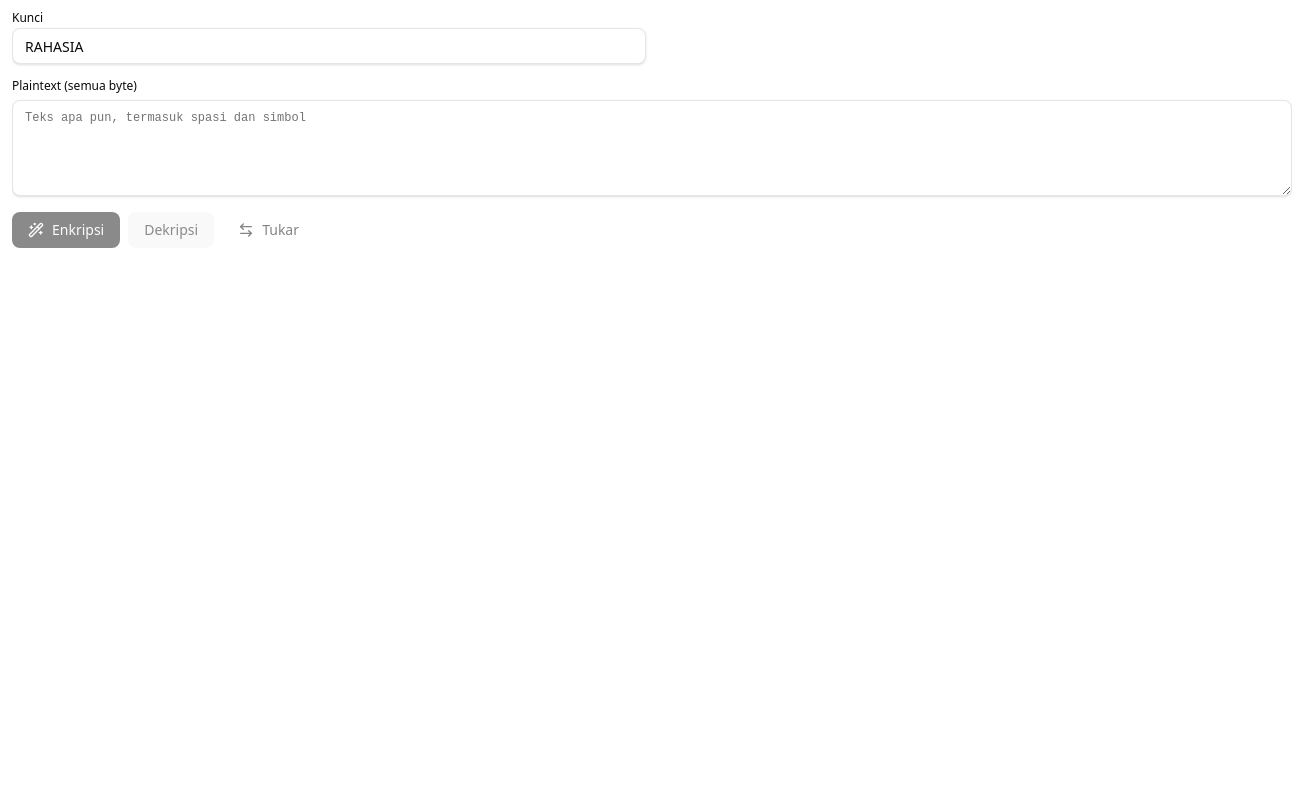
Test: TextPanel — enkripsi/dekripsi teks lewat GUI › Extended Vigenere menandai hasil sebagai base64 (Sp4)
The image size is (1304, 812).
In the text box labelled "Plaintext (semua byte)": x=652, y=148 left=12, top=100, right=1292, bottom=196, type "Halo"
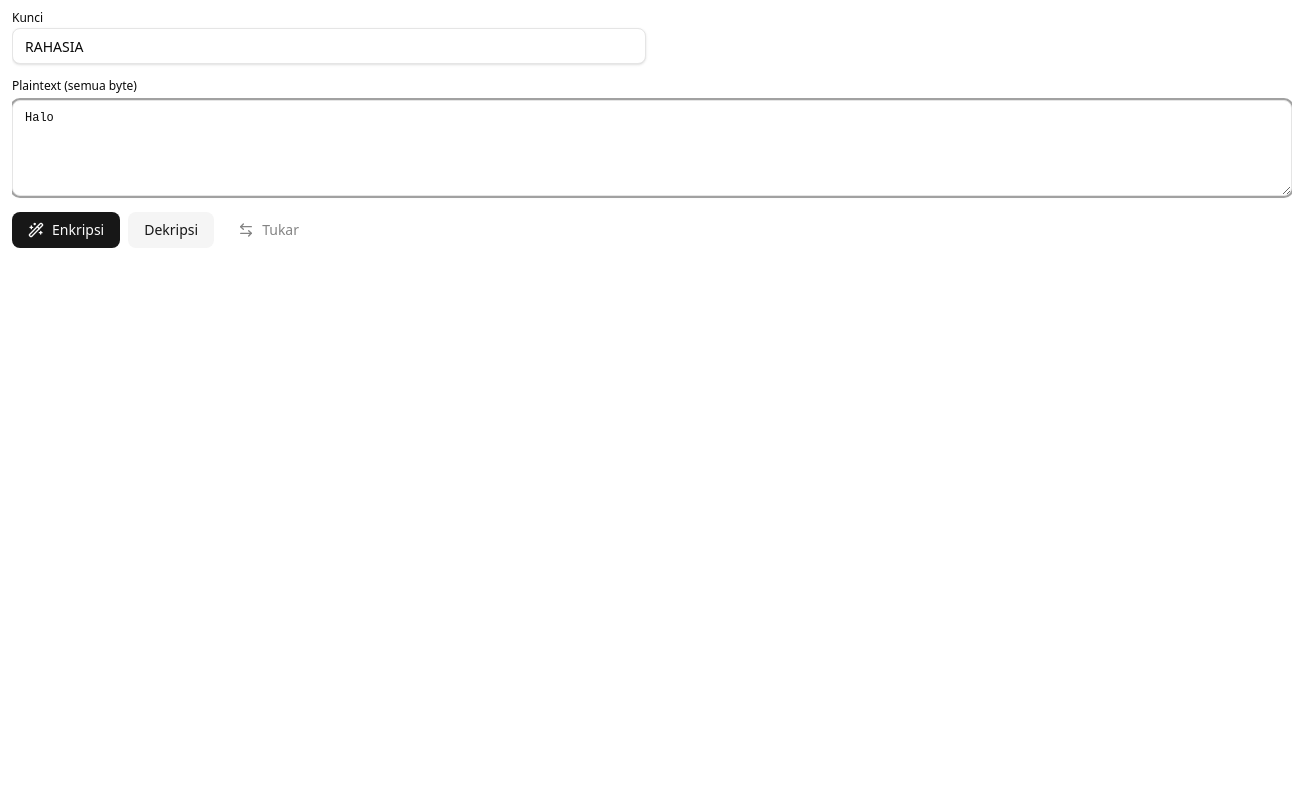
Click the button "Enkripsi": x=66, y=230 left=12, top=212, right=120, bottom=248
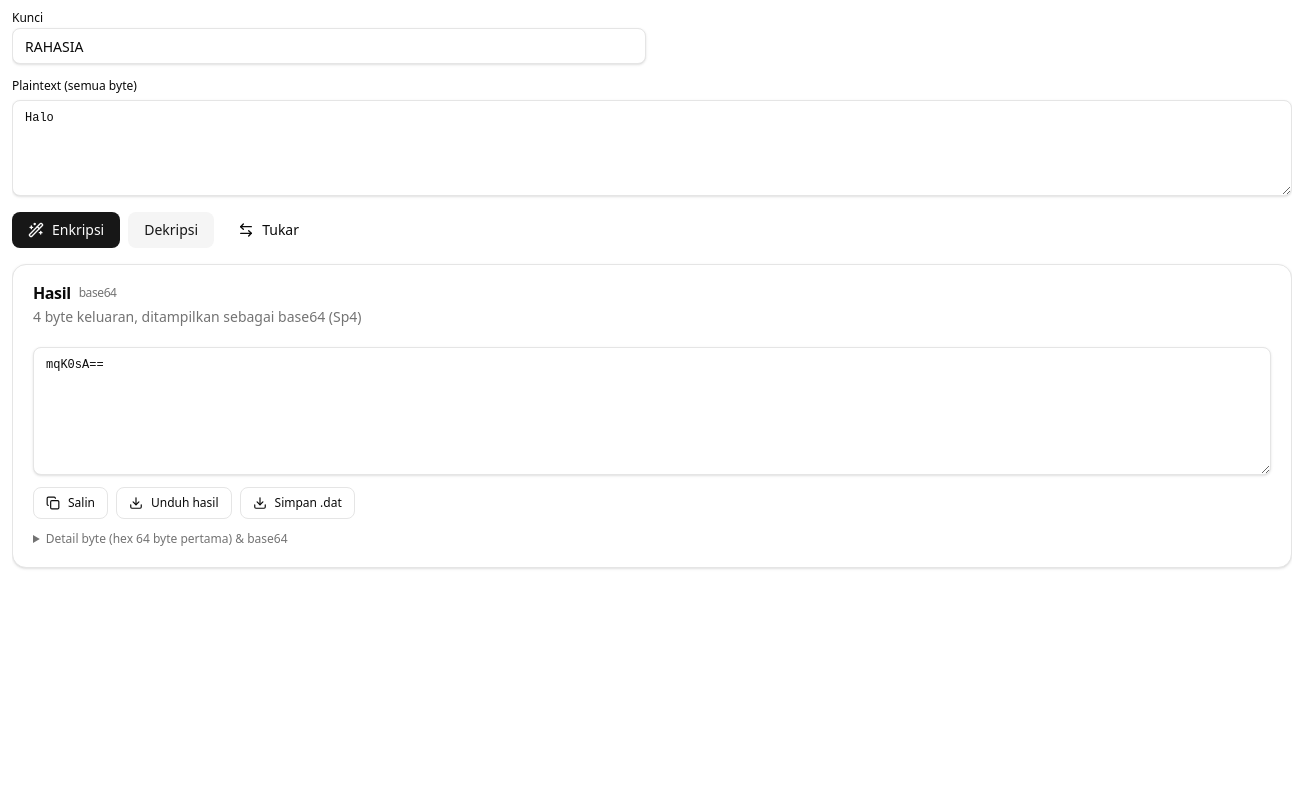
Result: the text with test id "result-kind" reads "base64" at left=79, top=284, right=117, bottom=301
